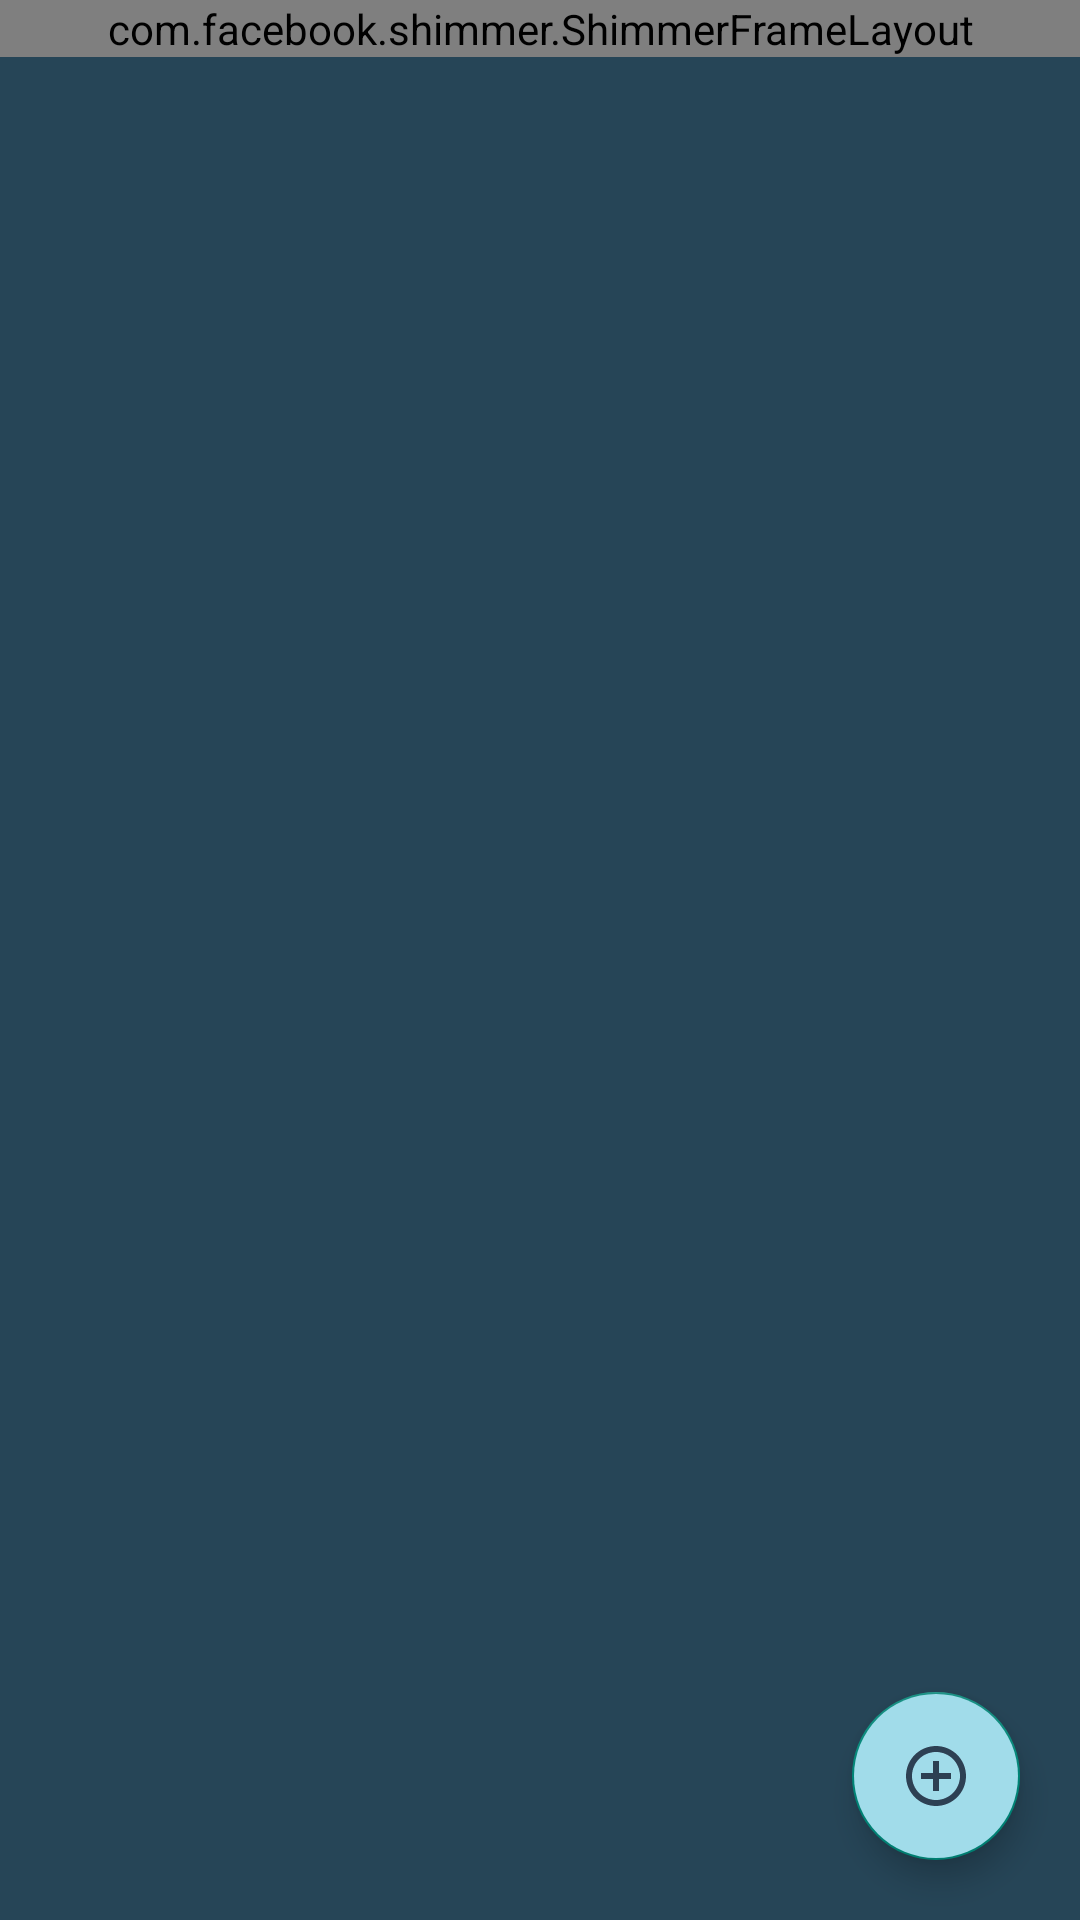

Screen size 1080x1920. Icon name, then its center in pixels as (x,y):
add circle: (936,1776)
